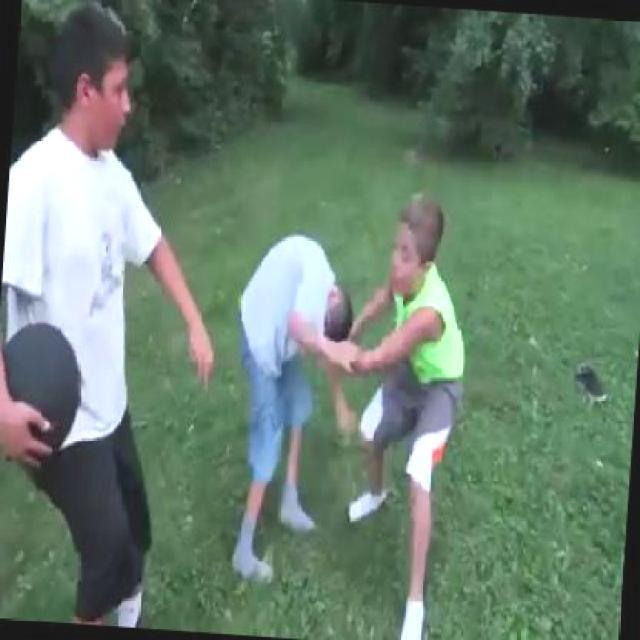fight: (216, 176, 478, 638)
non-fight: (0, 0, 217, 629)
